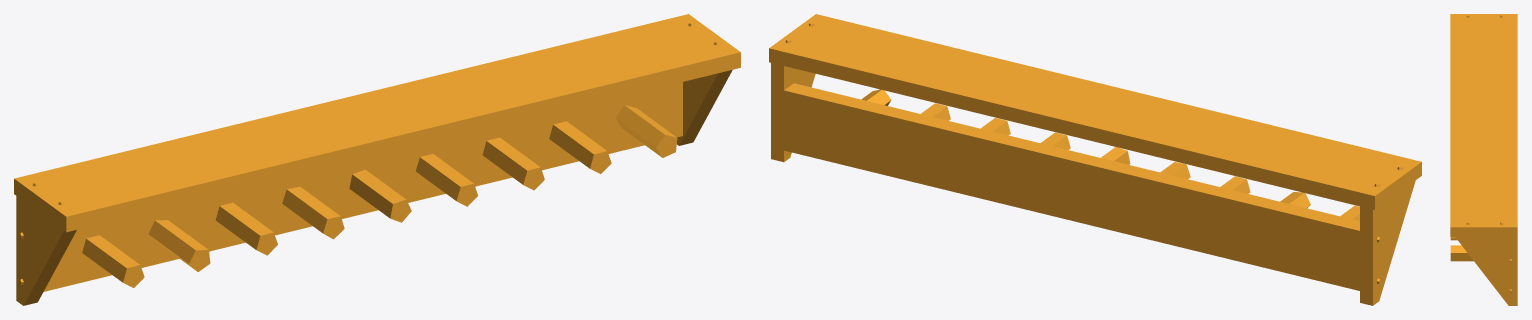
File: SM_Toolrack_B.fbx
3 renders of one model, left to right at view 1: azimuth 30°, elevation 25°; view 2: azimuth 150°, elevation 25°; view 3: azimuth 270°, elevation 25°, orthographic. The views are drawn at different scales.
Visible parts, largest first — view 1: toolrack-b; view 2: toolrack-b; view 3: toolrack-b.
Part boxes in pixels (x1,y1,x2,y2): toolrack-b: [14, 14, 740, 305]; toolrack-b: [769, 14, 1421, 305]; toolrack-b: [1450, 14, 1517, 305].
Size of the model in its own units: 0.9995 by 0.1772 by 0.134.
